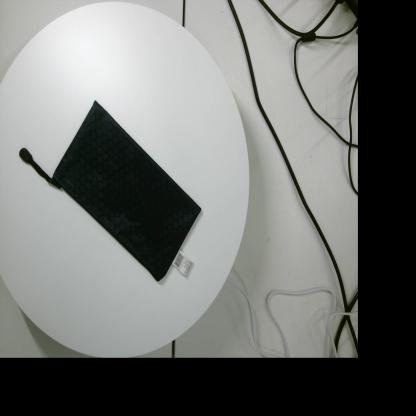Stationery: (20, 100, 202, 282)
